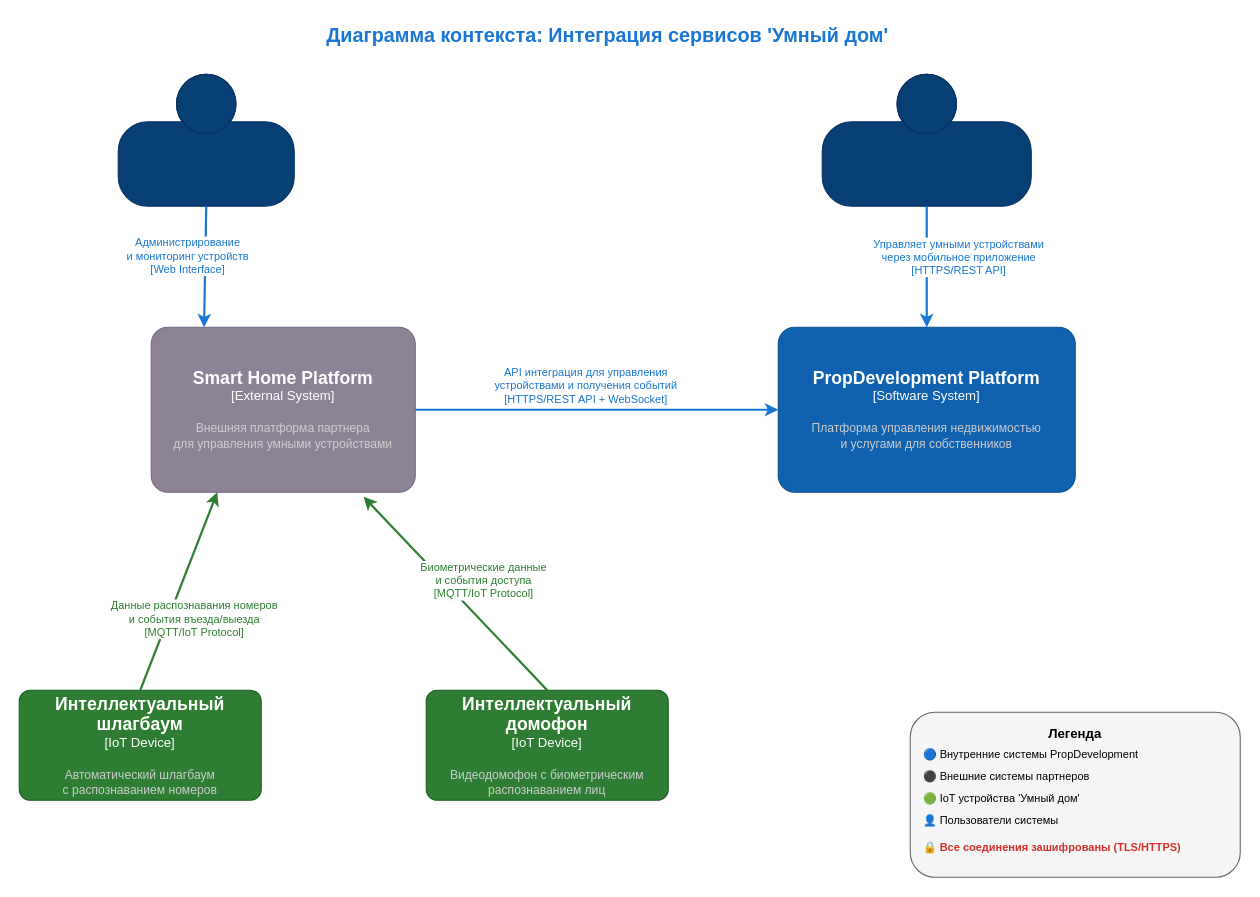
The diagram is 1260 pixels wide and 897 high, and some of its shapes have lost their labels. The centre of each missing label's shape, as x and y in pixels:
"Собственники жилья [Person] Владельцы квартир в ЖК PropDevelopment" goes at pixel 926 139.
"Управляющая компания [Person] Администраторы ЖК и службы безопасности" goes at pixel 205 139.
